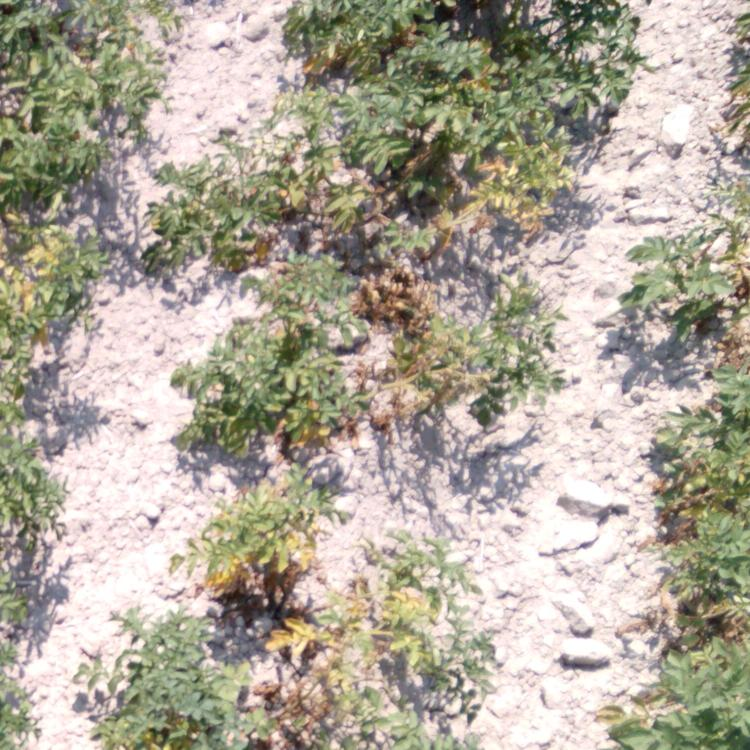healthy: (2, 1, 176, 100), (607, 650, 750, 750), (613, 228, 733, 338), (1, 100, 112, 211), (528, 1, 647, 95), (685, 561, 748, 645)
stressed: (254, 616, 487, 750), (167, 310, 358, 469), (200, 465, 355, 614), (289, 1, 524, 96), (403, 95, 573, 222), (99, 614, 251, 750), (426, 286, 562, 421), (650, 379, 750, 562), (276, 94, 408, 222), (1, 317, 61, 544), (276, 225, 421, 317), (153, 162, 274, 270), (1, 214, 107, 315), (350, 540, 489, 610), (364, 314, 421, 421), (722, 5, 750, 219), (1, 545, 30, 738)
